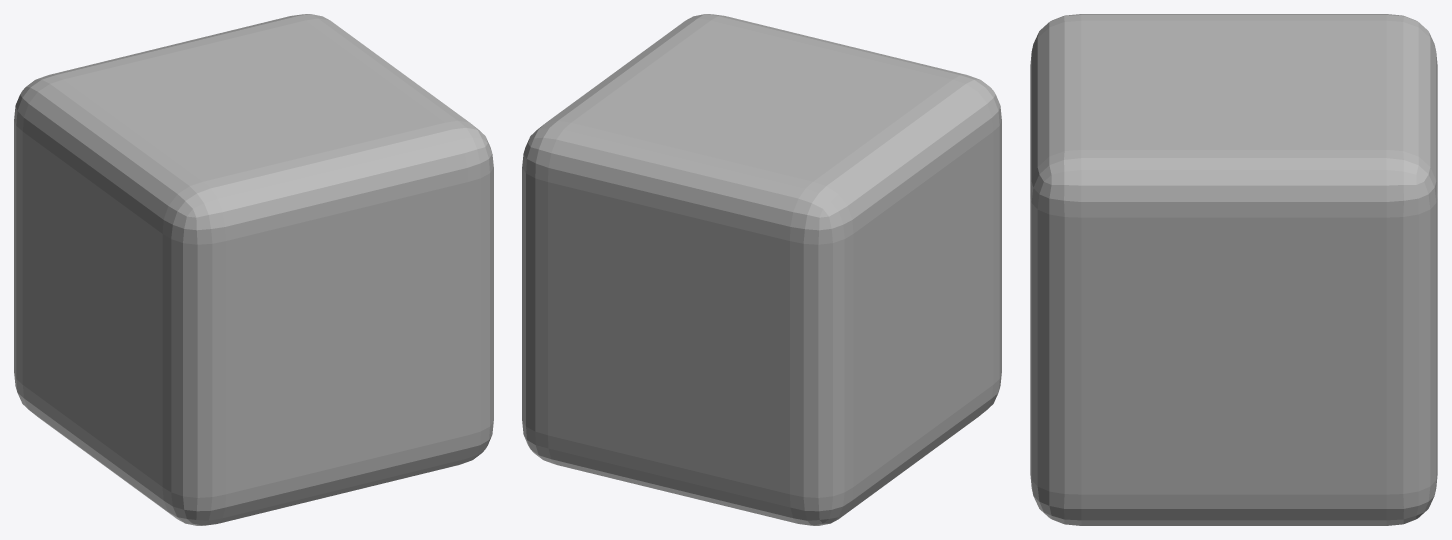
File: block.obj
3 views of the same model, side by side, from view 1: azimuth 30°, elevation 25°; view 2: azimuth 150°, elevation 25°; view 3: azimuth 270°, elevation 25° (orthographic). The views are drawn at different scales.
Parts seen in each view (by area): view 1: Cube; view 2: Cube; view 3: Cube.
Part boxes in pixels (bbox=[...]): Cube: bbox=[14, 14, 493, 525]; Cube: bbox=[522, 14, 1001, 525]; Cube: bbox=[1030, 14, 1437, 525].
Bounding box in the file's own units: 2 × 2 × 2.
1 material, 1 textured.
